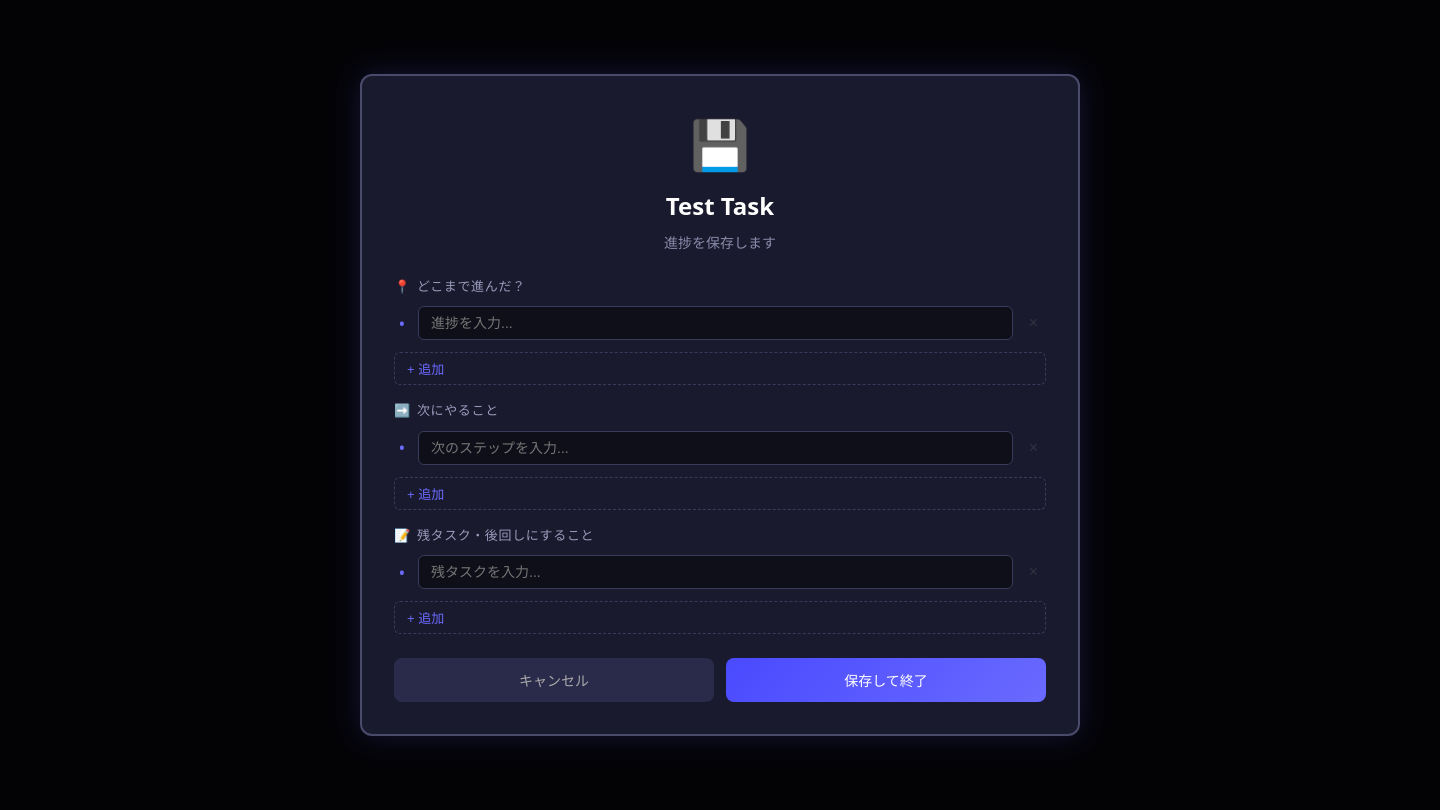
Test: SaveModal › adds a new list item when + 追加 button is clicked
Expected: the number of fields with placeholder "進捗を入力..." is 1, [418,306,1013,340]
Step 1. Click the button "+ 追加" below "どこまで進んだ？" → point(426, 370), box [394,352,1046,385]
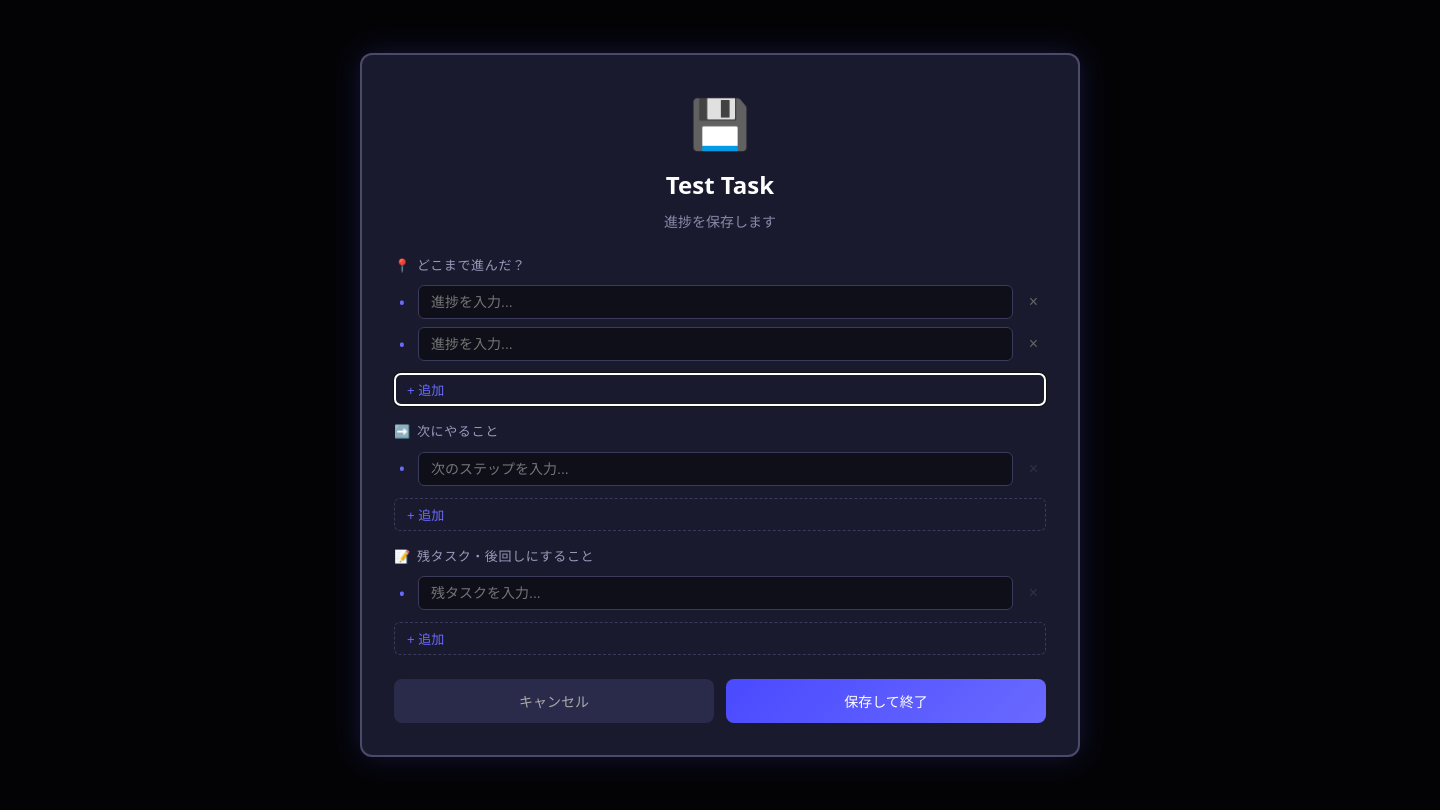
Expected: the number of fields with placeholder "進捗を入力..." is 2, [418,285,1013,319]; [418,327,1013,361]
